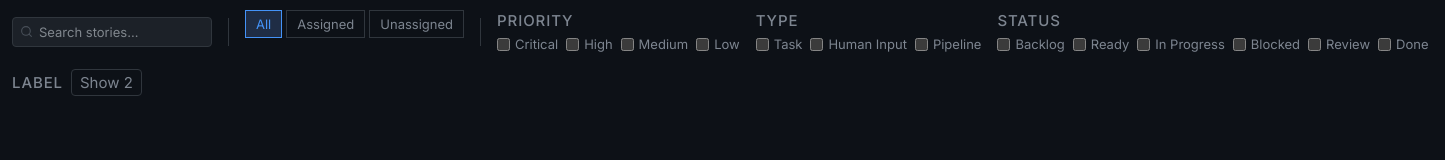
Test: FilterBar search › clears from the box's own button
The image size is (1445, 160).
Type "cap" into the search field labelled "Search stories…" at (112, 32), box [12,16,212,47]
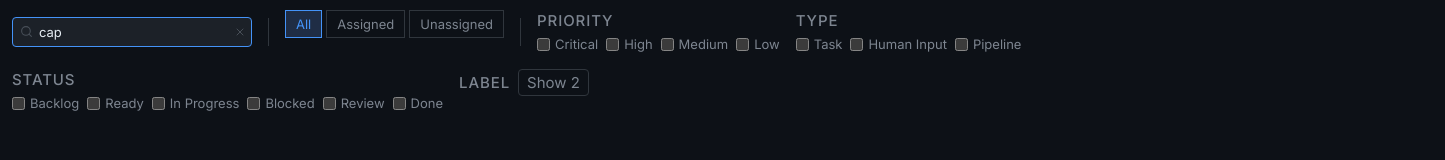
Click the button named "clear search" at (240, 32), box [232,24,248,40]
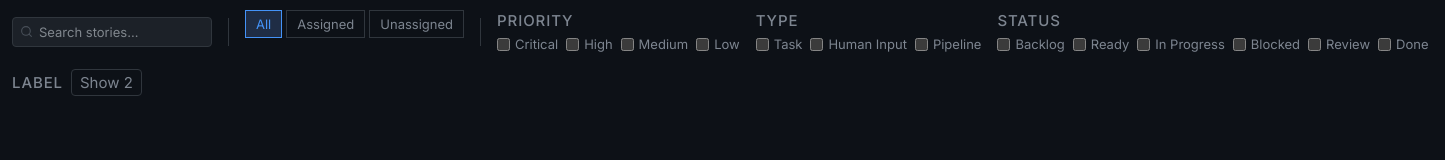
Check: the search field labelled "Search stories…" is empty, box [12,16,212,47]
